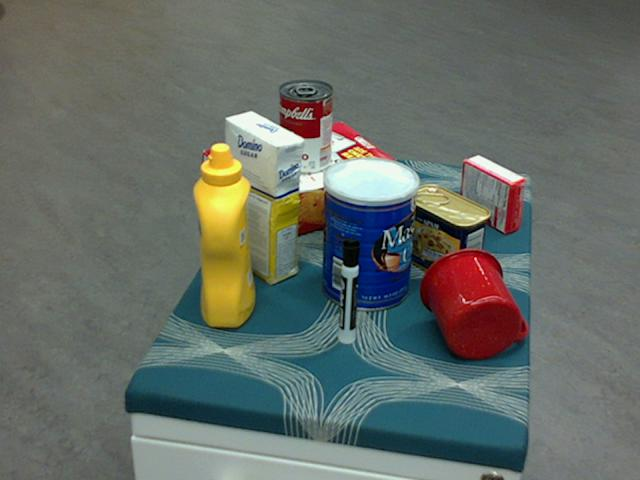cracker_box: (202, 121, 403, 248)
gelatin_box: (460, 154, 527, 233)
large_marker: (338, 237, 358, 345)
master_chef_can: (322, 156, 419, 311)
mug: (420, 246, 525, 358)
mustard_bottle: (193, 144, 255, 328)
potted_meat_can: (405, 184, 490, 282)
sugar_box: (225, 112, 302, 286)
tomato_soup_can: (278, 80, 333, 174)
tuna_fish_can: (330, 163, 401, 233)
